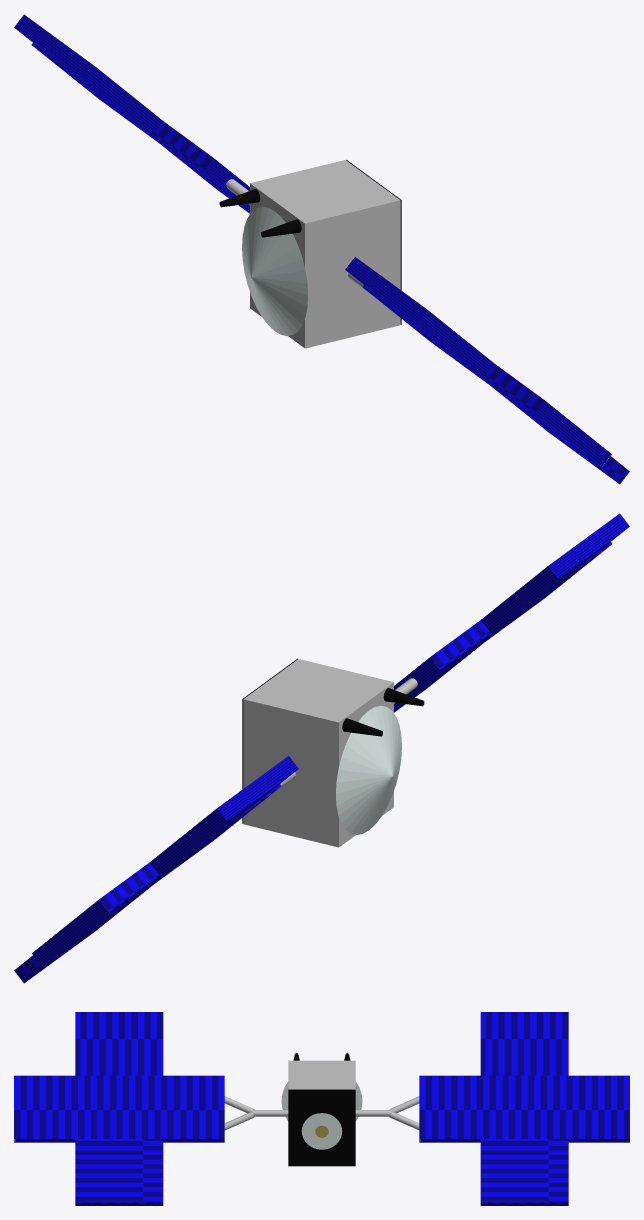
The model's file is PsycheSpacecraft-color.glb.
3 views of the same model, one above another, from view 1: azimuth 30°, elevation 25°; view 2: azimuth 150°, elevation 25°; view 3: azimuth 270°, elevation 25° (orthographic). The views are drawn at different scales.
Parts seen in each view (by area): view 1: main, solarPanel1, solarPanel1.001, Cone; view 2: main, solarPanel1.001, solarPanel1, Cone; view 3: solarPanel1, solarPanel1.001, Plane, main, Circle, arm1, arm2, Cone.
Part boxes in pixels (box(x1,y1,x2,y2)): main: box(250, 160, 400, 348); solarPanel1: box(345, 257, 629, 484); solarPanel1.001: box(14, 14, 249, 213); Cone: box(242, 206, 307, 335); main: box(243, 659, 393, 847); solarPanel1.001: box(14, 756, 298, 983); solarPanel1: box(394, 513, 629, 712); Cone: box(336, 705, 401, 834); solarPanel1: box(14, 1012, 224, 1205); solarPanel1.001: box(419, 1012, 629, 1205); Plane: box(288, 1089, 355, 1166); main: box(288, 1060, 355, 1089); Circle: box(301, 1113, 342, 1149); arm1: box(224, 1096, 288, 1130); arm2: box(355, 1096, 419, 1130); Cone: box(281, 1081, 362, 1121).
Size of the model in its own units: 4.46 by 4.45 by 18.24.
5 materials, 1 textured.
